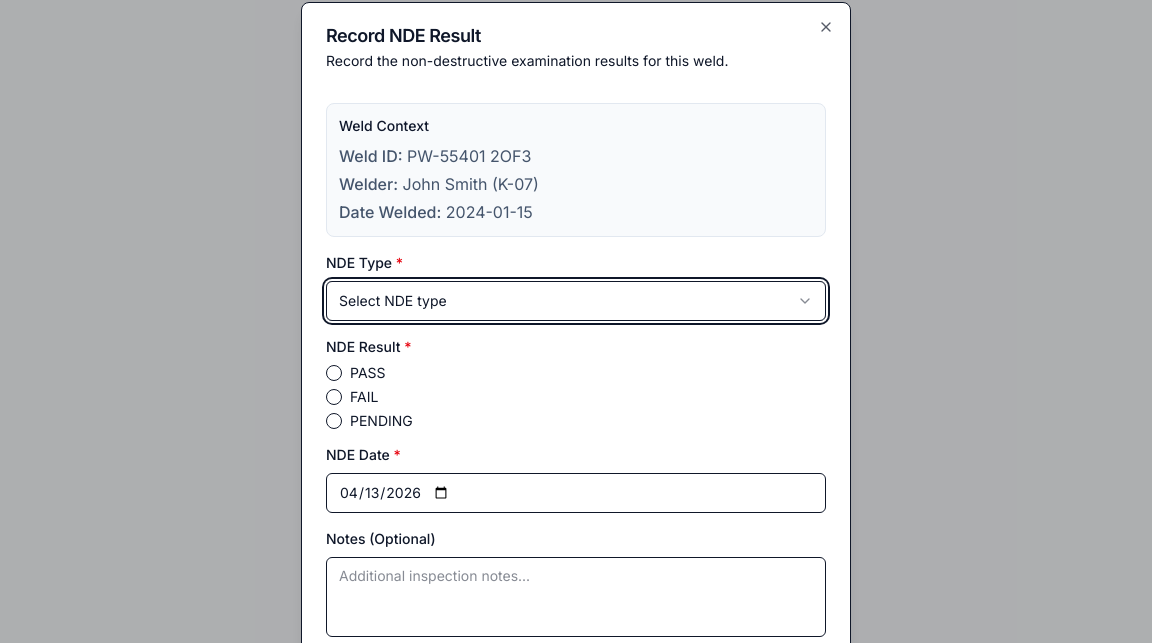
Test: NDEResultDialog › shows warning box only when FAIL selected
The image size is (1152, 643).
Select FAIL
Click the radio button named "FAIL" next to "FAIL". click: [334, 397]
box: [326, 389, 342, 405]
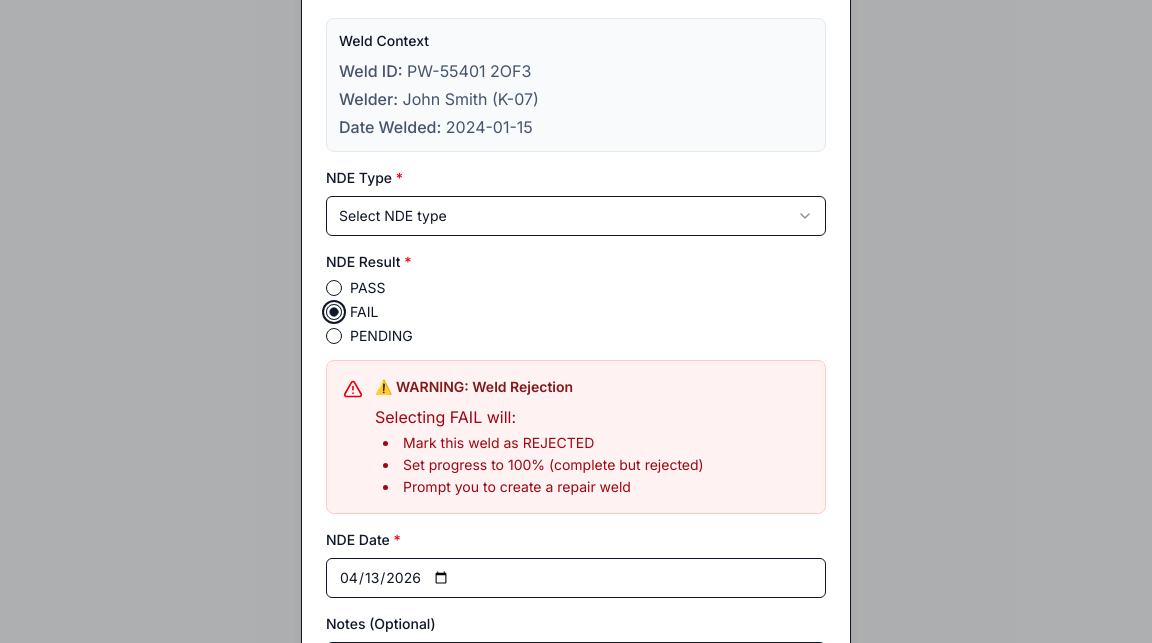
Result: the heading "⚠️ WARNING: Weld Rejection" is shown at [375, 378, 573, 395]
